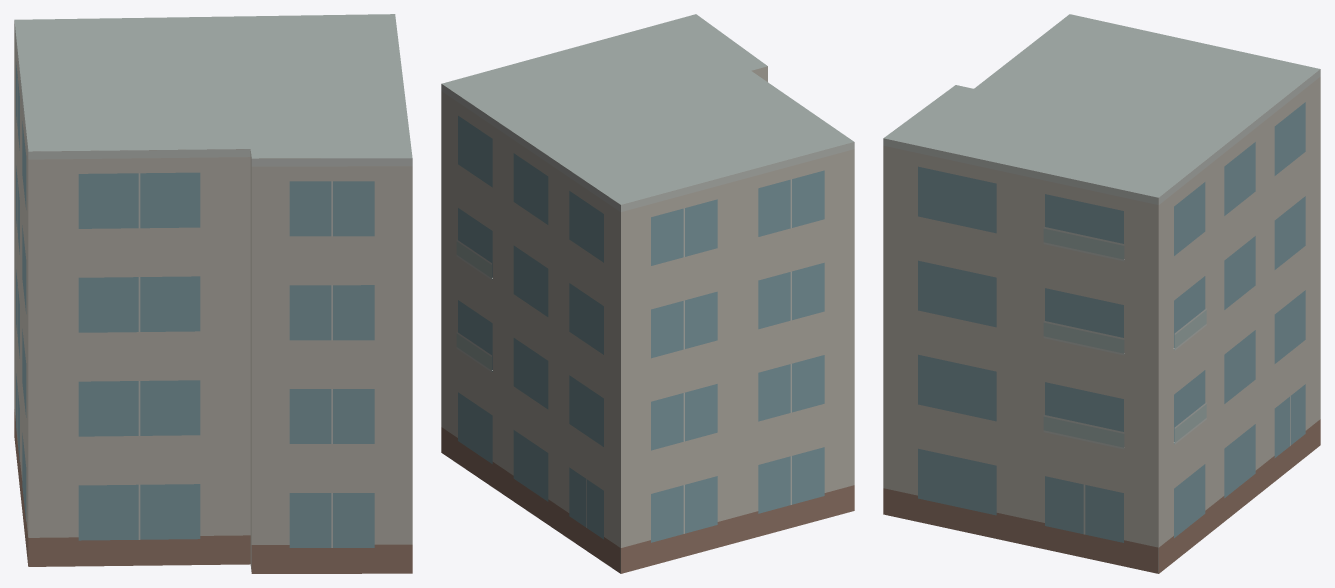
File: survey-upis-32680493.glb
3 views of the same model, side by side, from view 1: azimuth 30°, elevation 25°; view 2: azimuth 150°, elevation 25°; view 3: azimuth 270°, elevation 25° (orthographic). The views are drawn at different scales.
Visible parts, largest first — view 1: survey-upis-32680493.tmp; view 2: survey-upis-32680493.tmp; view 3: survey-upis-32680493.tmp.
Boxes of the visible parts, x1,y1,x2,y2 form: survey-upis-32680493.tmp: (14, 14, 412, 573); survey-upis-32680493.tmp: (441, 14, 854, 573); survey-upis-32680493.tmp: (883, 14, 1320, 573).
Bounding box in the file's own units: 13 × 12.4 × 13.07.
